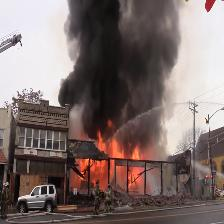fire: (74, 133, 155, 187)
smoke: (66, 0, 170, 132)
